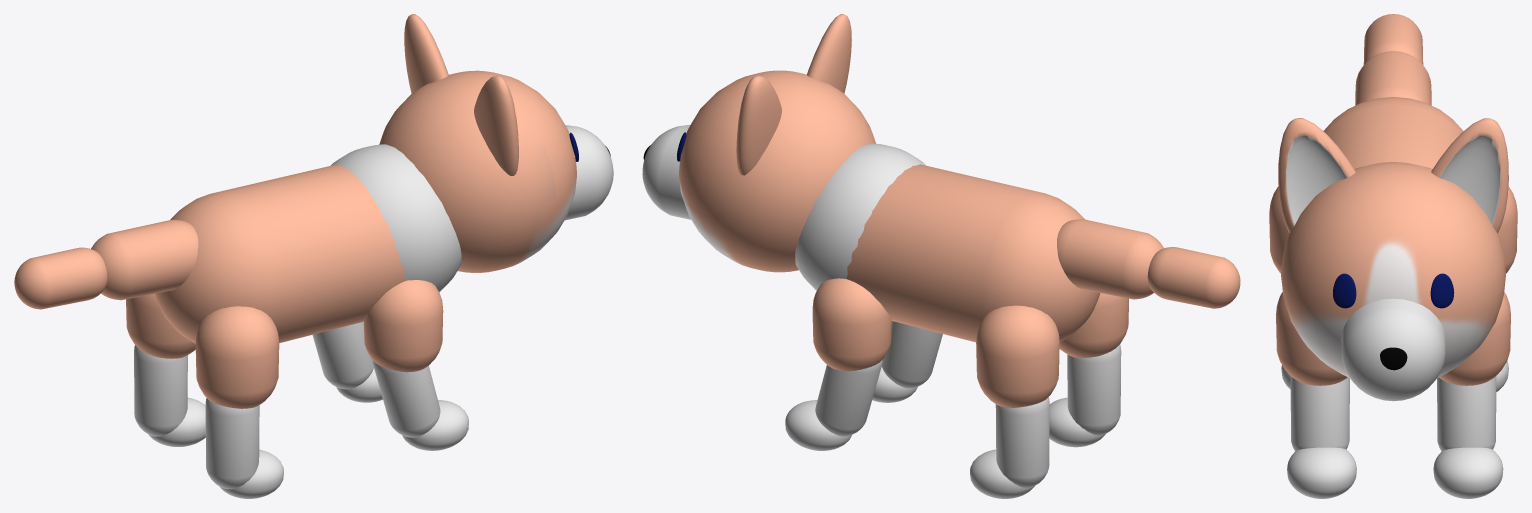
File: dog.fbx
3 renders of one model, left to right at view 1: azimuth 30°, elevation 25°; view 2: azimuth 150°, elevation 25°; view 3: azimuth 270°, elevation 25°, orthographic. The views are drawn at different scales.
Parts seen in each view (by area): view 1: Body, Head, Neck, Right_thigh_back, Sphere.018, Right_Thigh_Front, Sphere.019, Right_Shin_Back, Left_Shin_back, Right_Shin_Front, Sphere.015, Left_Shin_Front (+7 smaller); view 2: Body, Head, Neck, Left_Thigh_back, Sphere.018, Left_Thigh_Front, Sphere.019, Left_Shin_back, Right_Shin_Back, Left_Shin_Front, Sphere.017, Right_Shin_Front (+7 smaller); view 3: Head, Sphere.001, Body, Sphere.015, Sphere.017, Left_Shin_Front, Right_Shin_Front, Sphere.018, Right_Foot_Front, Left_Foot_Front, Right_Thigh_Front, Left_Thigh_Front (+6 smaller).
Part boxes in pixels (x1,y1,x2,y2): Body: (155, 164, 406, 343); Head: (379, 70, 576, 272); Neck: (330, 144, 461, 292); Right_thigh_back: (195, 306, 279, 408); Sphere.018: (91, 219, 198, 300); Right_Thigh_Front: (364, 280, 443, 372); Sphere.019: (14, 247, 107, 309); Right_Shin_Back: (205, 398, 259, 489); Left_Shin_back: (134, 345, 187, 436); Right_Shin_Front: (372, 360, 440, 437); Sphere.015: (474, 75, 518, 175); Left_Shin_Front: (312, 321, 373, 389); Body: (846, 164, 1100, 342); Head: (679, 70, 875, 272); Neck: (795, 143, 925, 290); Left_Thigh_back: (976, 305, 1059, 407); Sphere.018: (1057, 219, 1163, 299); Left_Thigh_Front: (812, 278, 891, 371); Sphere.019: (1147, 247, 1240, 308); Left_Shin_back: (995, 397, 1049, 487); Right_Shin_Back: (1067, 344, 1121, 435); Left_Shin_Front: (815, 359, 882, 436); Sphere.017: (736, 75, 781, 175); Right_Shin_Front: (881, 321, 942, 388); Head: (1281, 162, 1505, 377); Sphere.001: (1341, 298, 1445, 401); Body: (1323, 97, 1463, 168); Sphere.015: (1278, 118, 1355, 233); Sphere.017: (1431, 118, 1508, 233); Left_Shin_Front: (1437, 376, 1496, 451); Right_Shin_Front: (1290, 376, 1349, 451); Sphere.018: (1355, 51, 1431, 105); Right_Foot_Front: (1287, 447, 1356, 498); Left_Foot_Front: (1433, 447, 1503, 498); Right_Thigh_Front: (1276, 292, 1347, 385); Left_Thigh_Front: (1439, 292, 1510, 385).
Bounding box in the file's own units: 6.73 × 3.97 × 2.21.
Materials: 6 (2 with a texture image).
